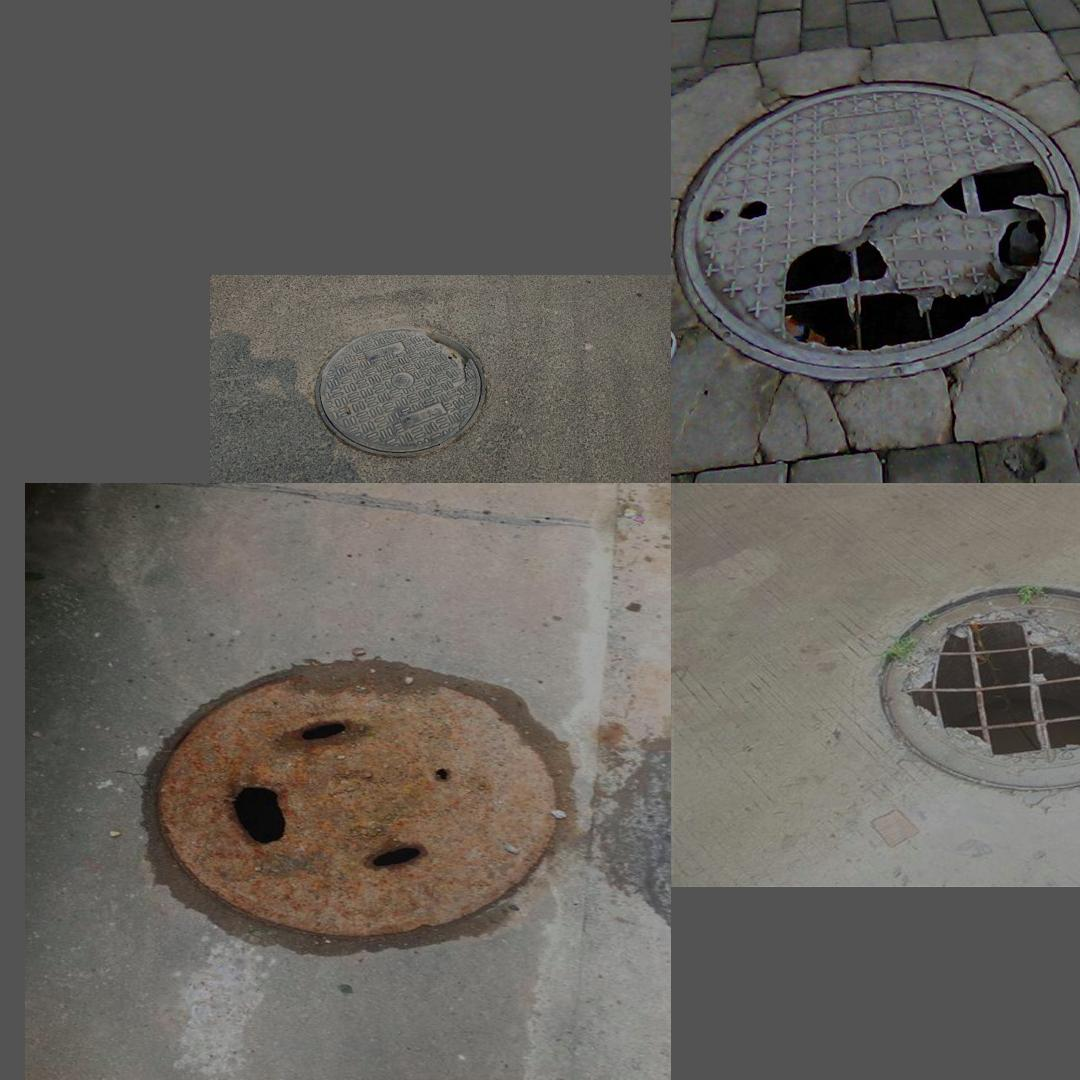broke: (113, 639, 597, 954), (674, 81, 1080, 381), (861, 577, 1080, 798), (314, 327, 486, 457)
